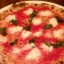basil: (24, 12, 39, 34), (44, 40, 64, 51), (53, 14, 64, 28), (10, 15, 18, 27), (1, 25, 8, 38), (9, 38, 18, 47), (25, 38, 38, 44), (44, 22, 53, 29)
pizza: (1, 1, 64, 64)
